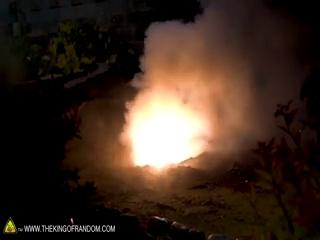Fire: (117, 96, 196, 168)
